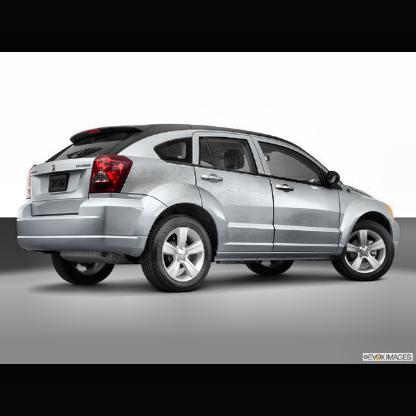Dodge Caliber Wagon 2012: (17, 124, 399, 292)
